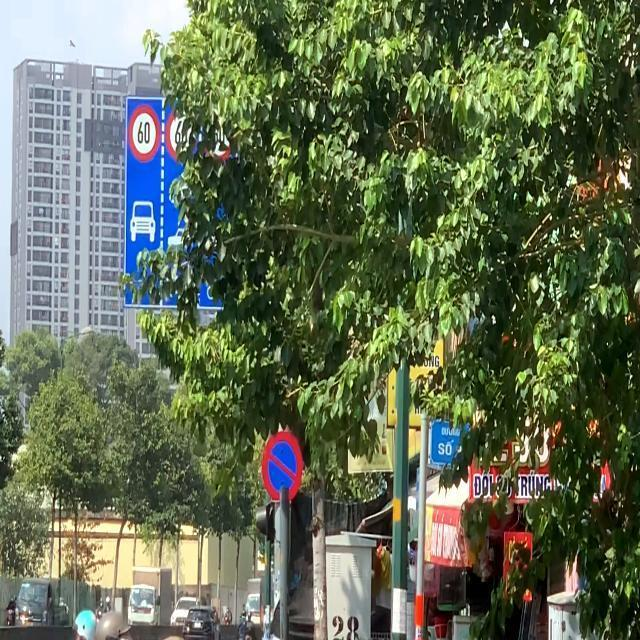127-toc-do-toi-da-60: (164, 104, 200, 158), (127, 106, 161, 158)
131a-cam-do-xe: (260, 428, 306, 500)
